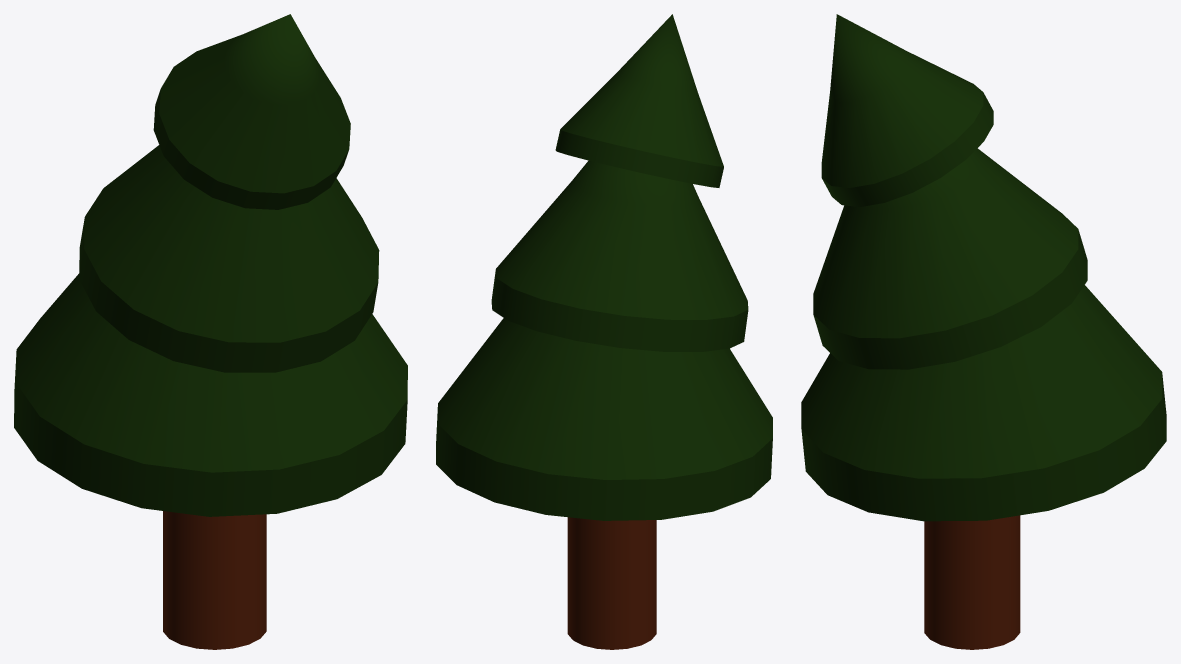
Rendered from Tree 2.fbx.
3 renders of one model, left to right at view 1: azimuth 30°, elevation 25°; view 2: azimuth 150°, elevation 25°; view 3: azimuth 270°, elevation 25°, orthographic. The views are drawn at different scales.
Visible parts, largest first — view 1: Cylinder008, Cylinder007; view 2: Cylinder008, Cylinder007; view 3: Cylinder008, Cylinder007.
Boxes of the visible parts, <box> form: Cylinder008: <box>14,14,407,516</box>; Cylinder007: <box>163,511,266,649</box>; Cylinder008: <box>436,14,772,520</box>; Cylinder007: <box>567,517,656,649</box>; Cylinder008: <box>801,14,1166,521</box>; Cylinder007: <box>924,515,1020,649</box>.
Bounding box in the file's own units: 16.09 × 29.75 × 15.97.
